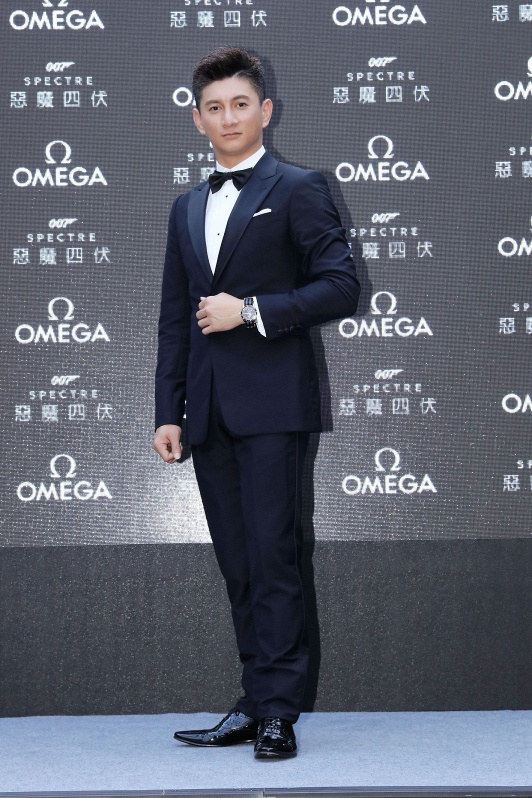male: (177, 53, 297, 172)
